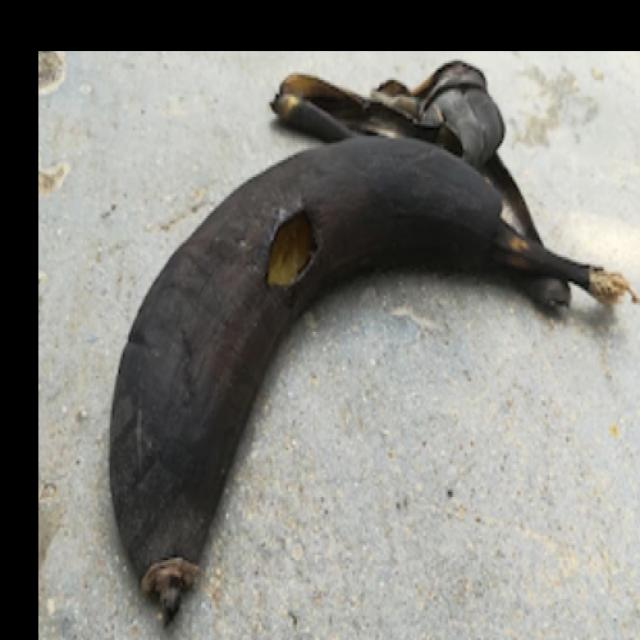Rotten: (83, 53, 640, 640)
